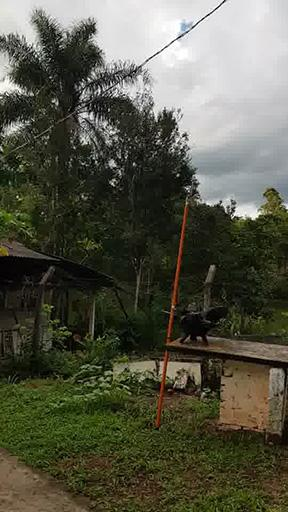Vara_Manobra: (156, 198, 190, 428)
